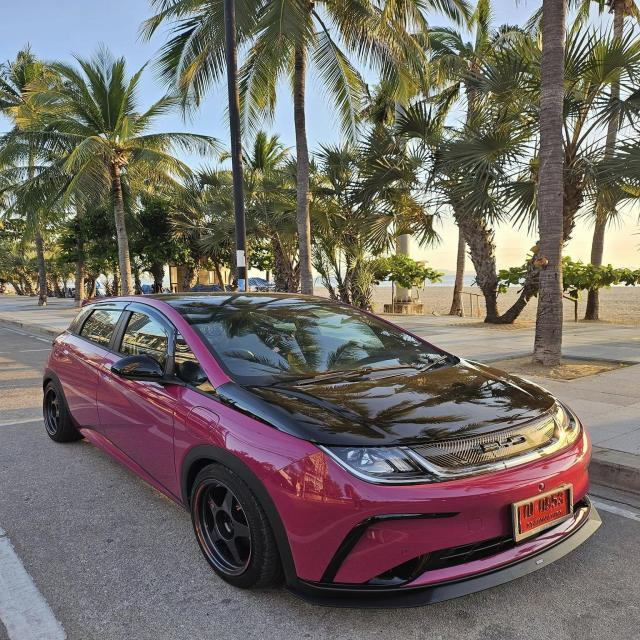Hatchback: (42, 292, 600, 602)
